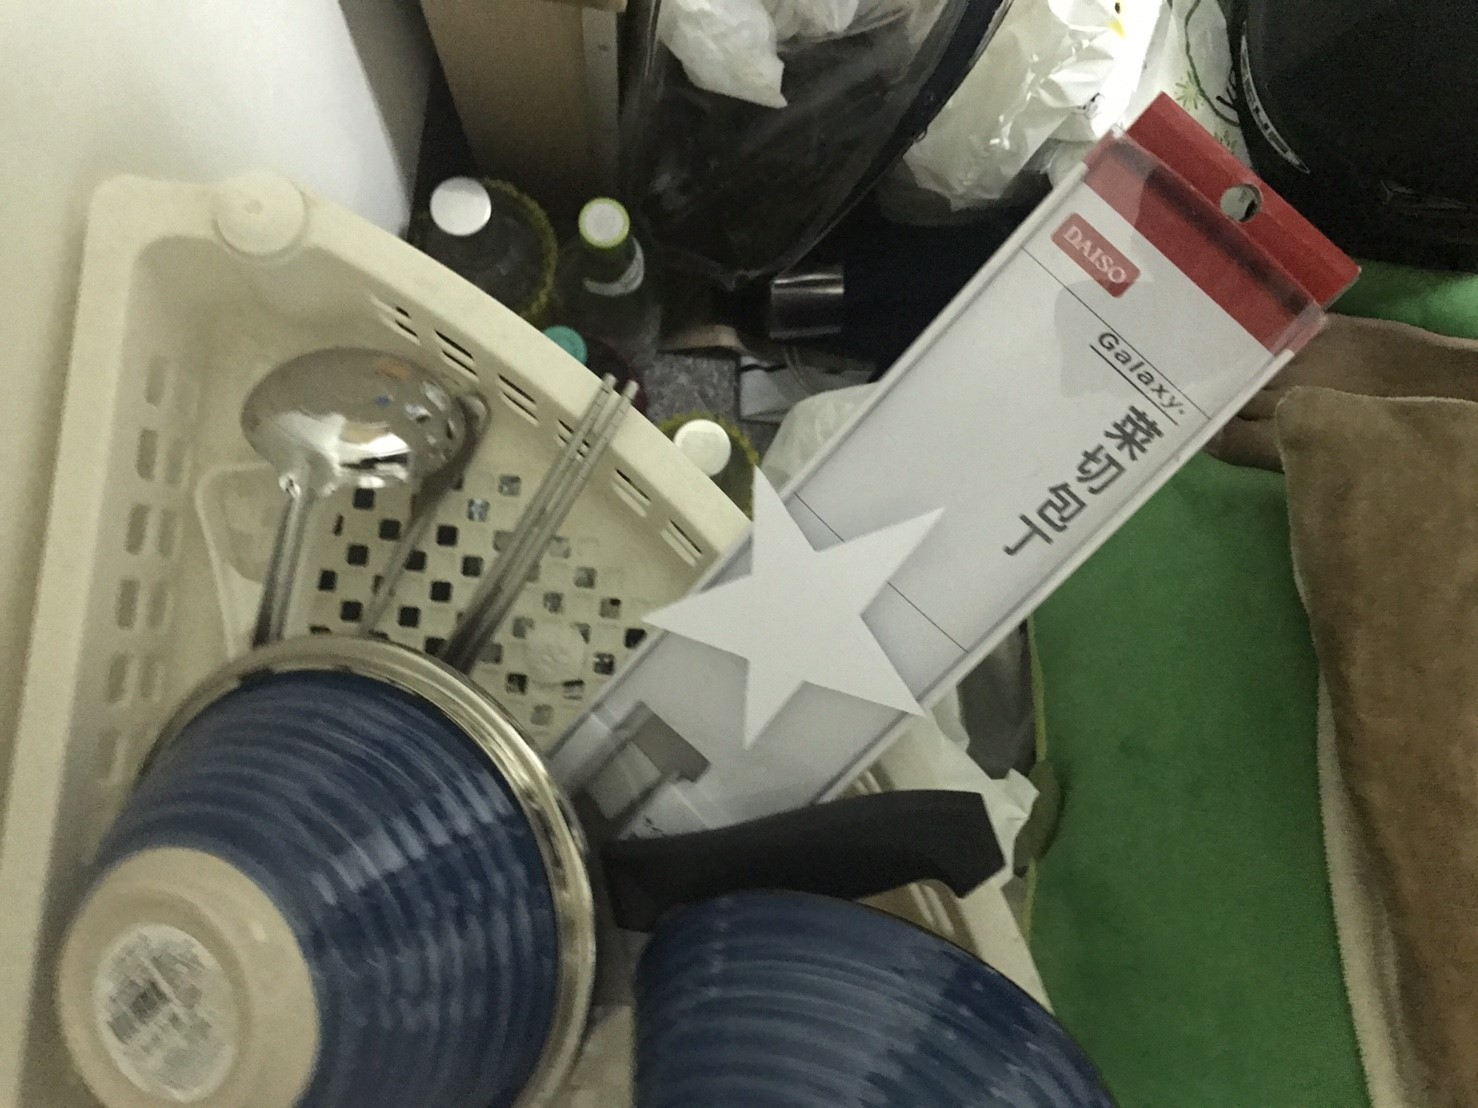star: (614, 445, 1004, 752)
